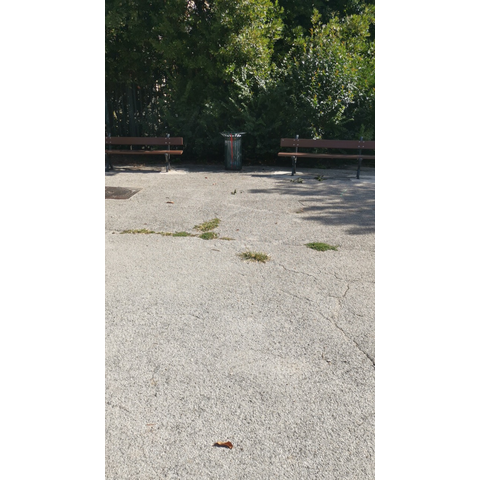poubelle: (218, 126, 253, 175)
